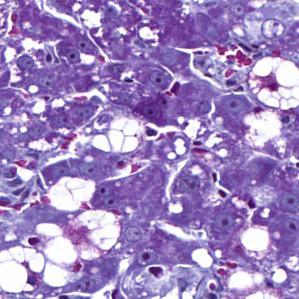ballooning: (4, 207, 126, 294), (245, 54, 296, 112), (86, 115, 142, 155), (44, 173, 98, 214)
